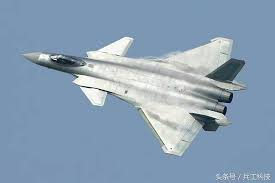fighter: (19, 33, 251, 159)
